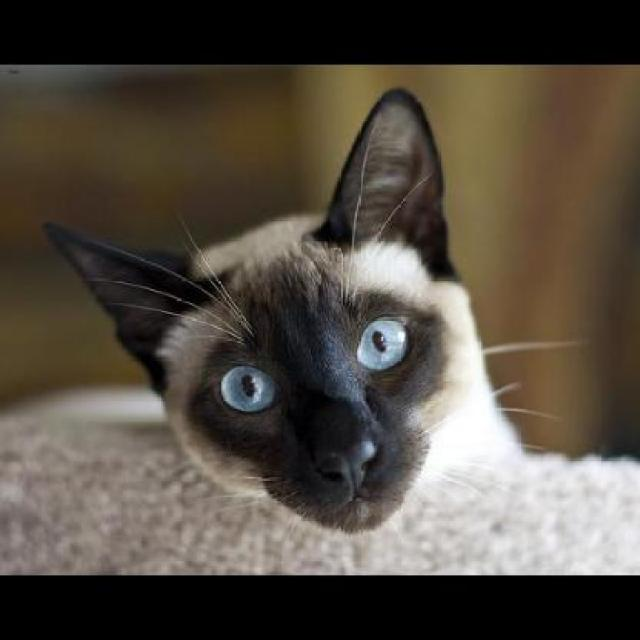unauthorized: (40, 84, 582, 536)
